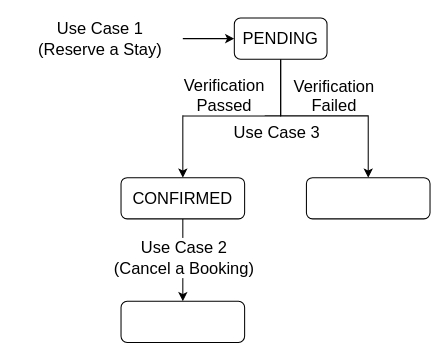
Some shapes in this 448 by 361 pixel diagram are drawn without their labels. The centre of each missing label's shape, as x and y in pixels:
CANCELLED: the point at 182,321
REJECTED: the point at 367,198
